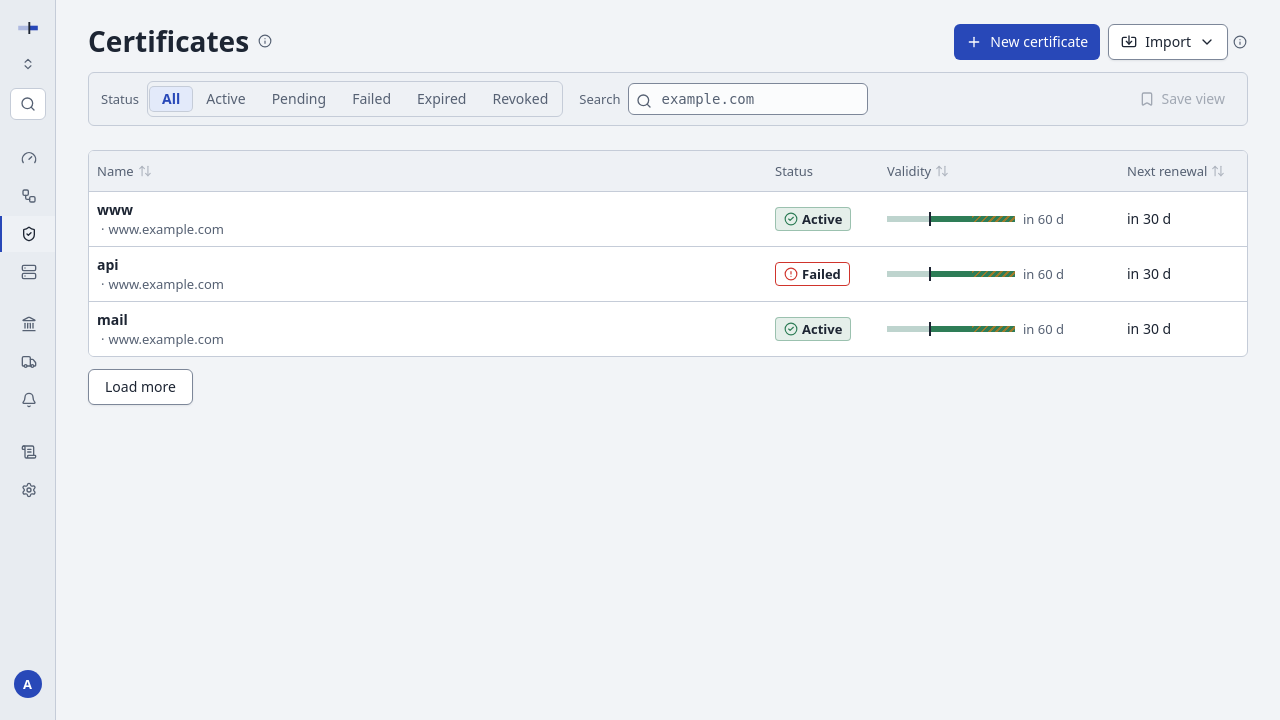
shows the Import help tip
Click the button named "Help" at {"x": 1240, "y": 42}, box [1232, 34, 1248, 50]
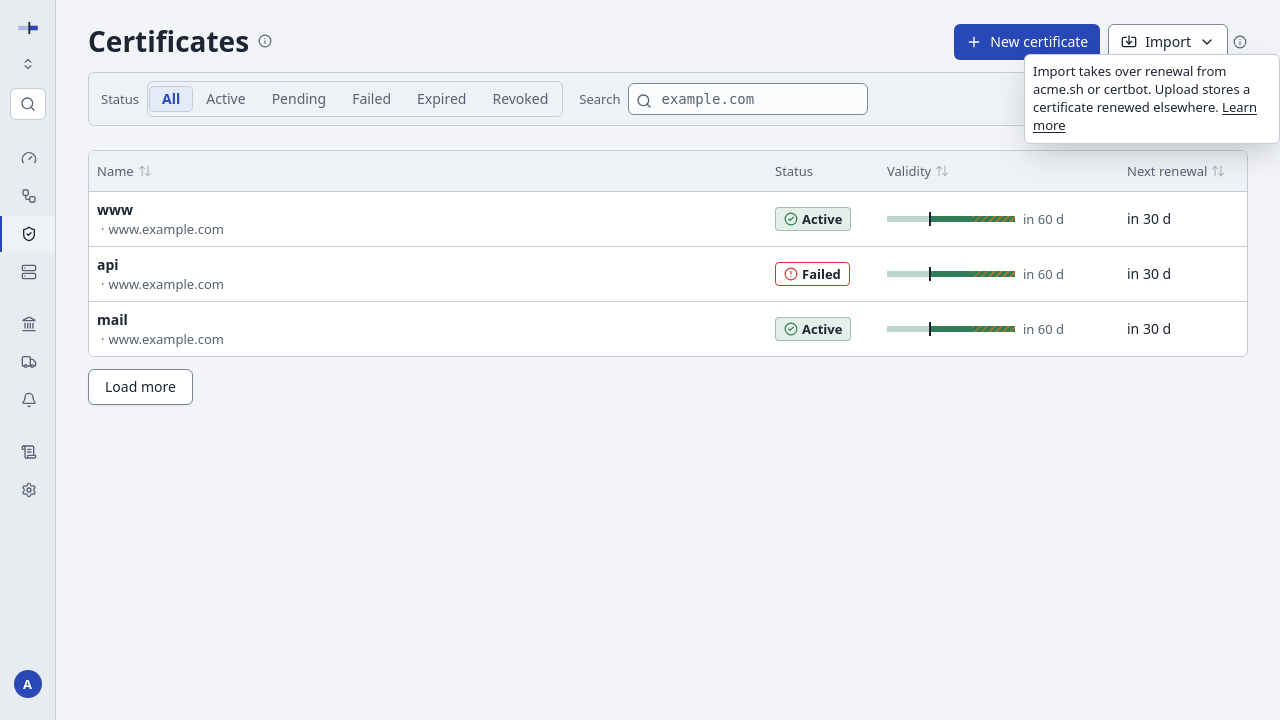
Expected: the dialog shows "Import takes over renewal from acme.sh or certbot.", [1033, 62, 1250, 116]
